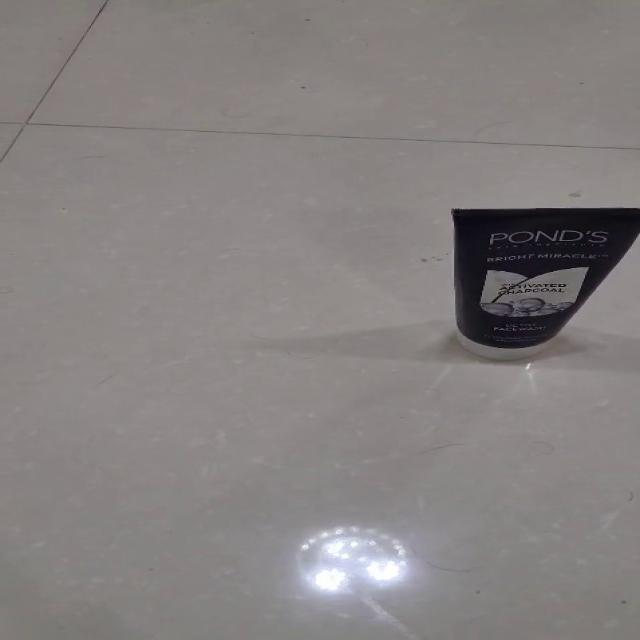plastic: (448, 206, 638, 360)
